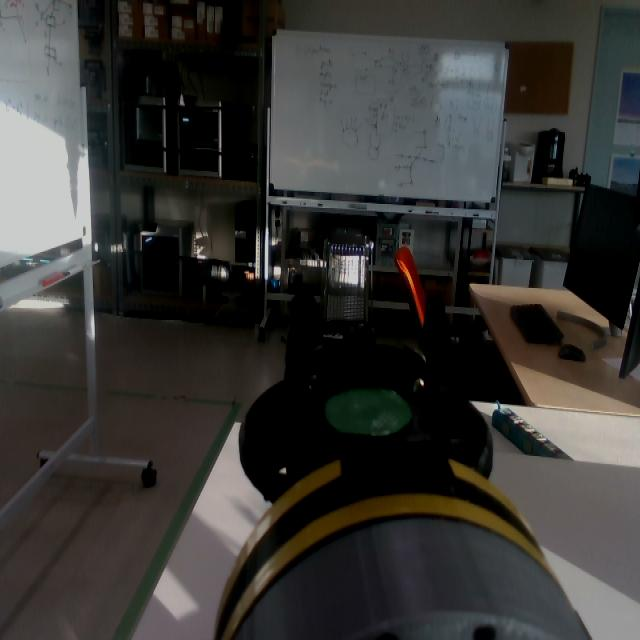body_connector: (232, 516, 591, 640)
connection: (215, 454, 589, 640)
leg: (213, 295, 547, 640)
leg_connector: (214, 445, 548, 640)
marker: (322, 387, 410, 434)
